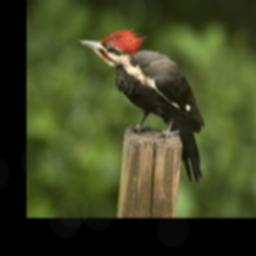Woodpecker: (75, 22, 216, 186)
